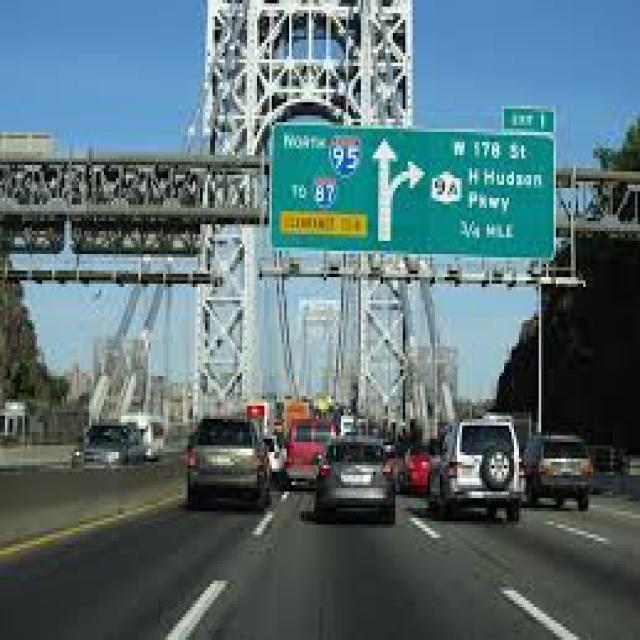vehicle: (171, 409, 318, 571), (432, 392, 542, 556), (316, 418, 402, 566), (520, 407, 619, 513), (276, 372, 346, 449)
